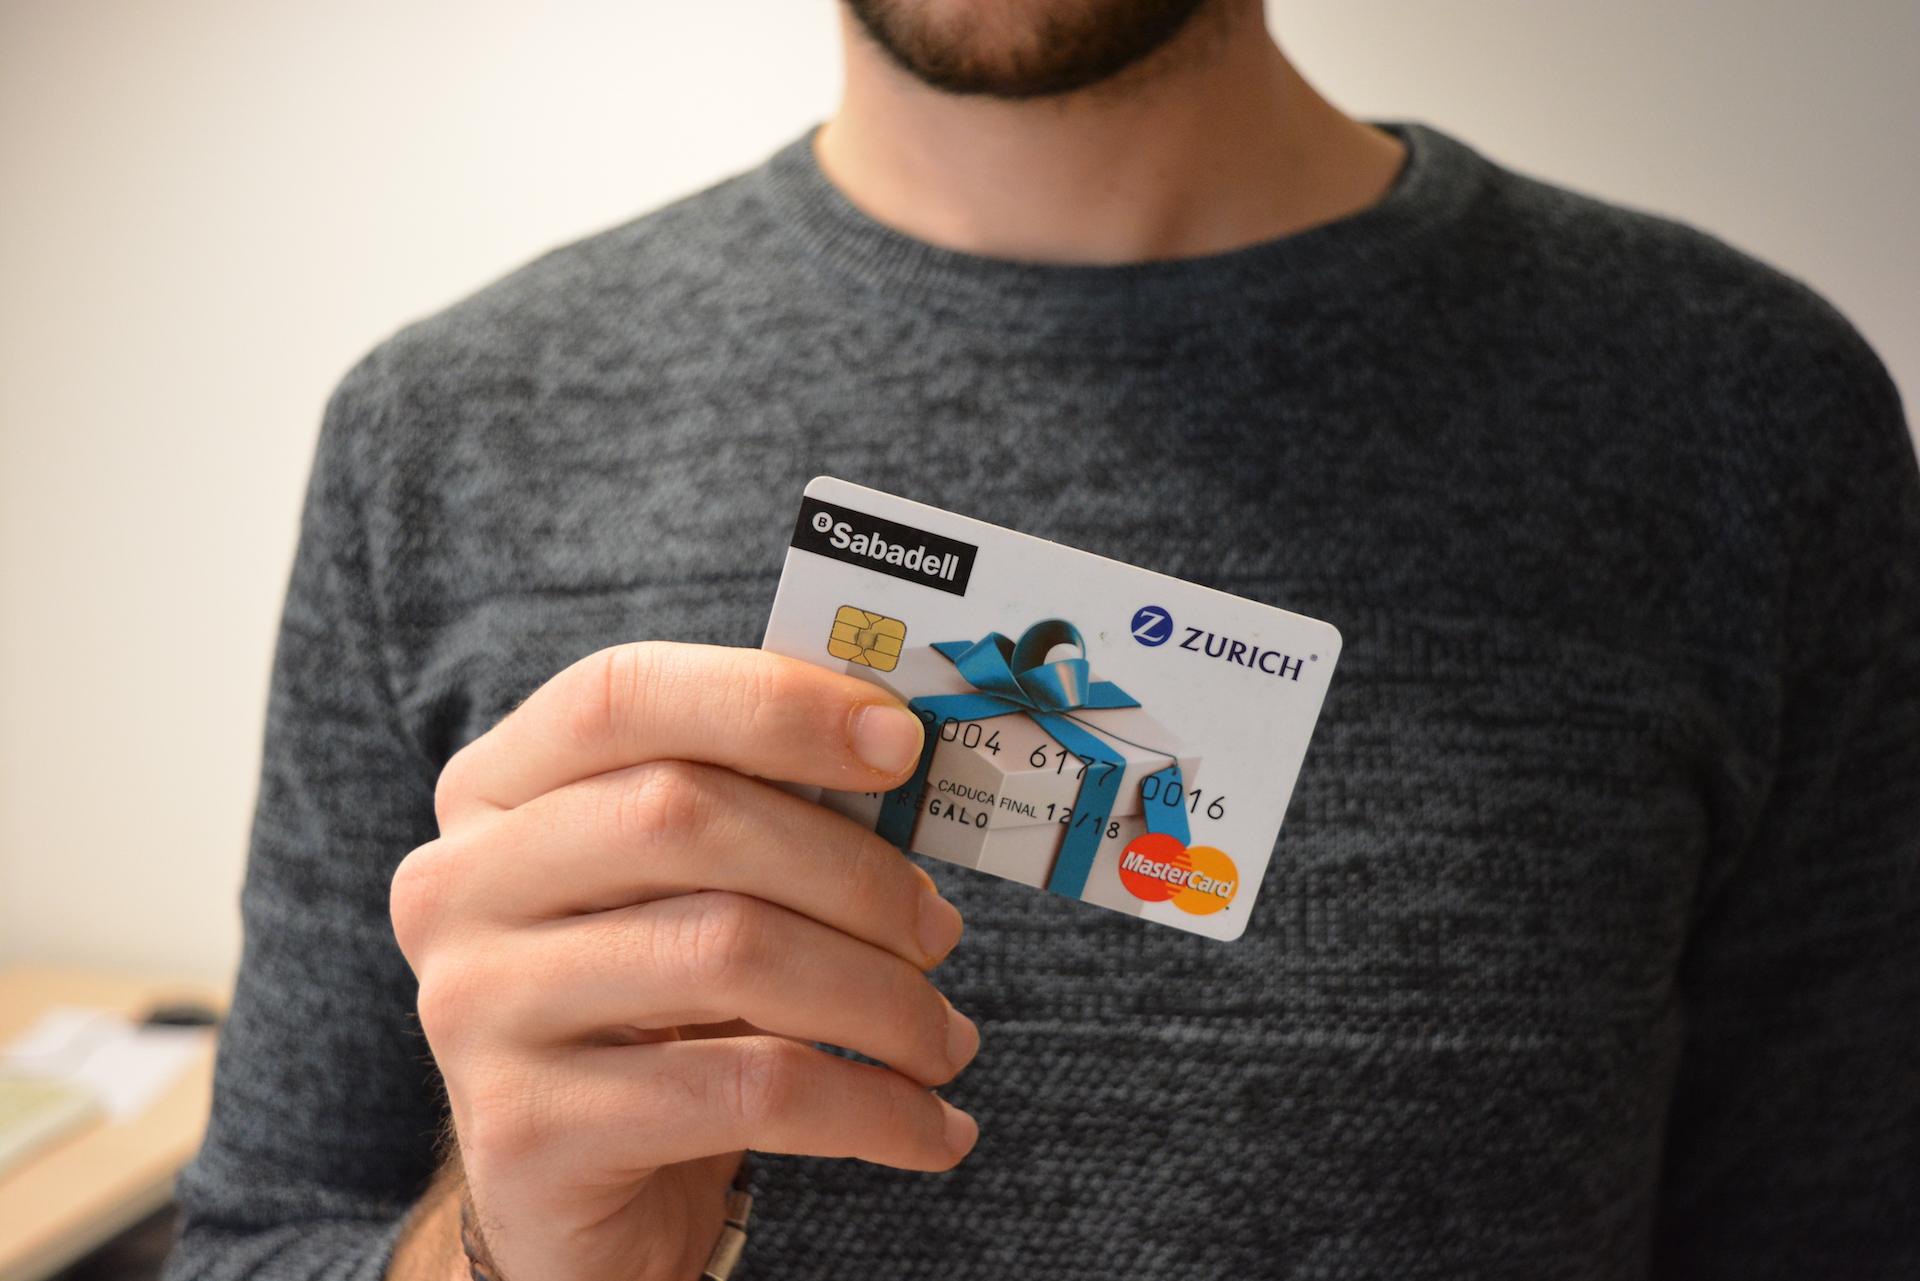tarjeta: (738, 470, 1348, 945)
